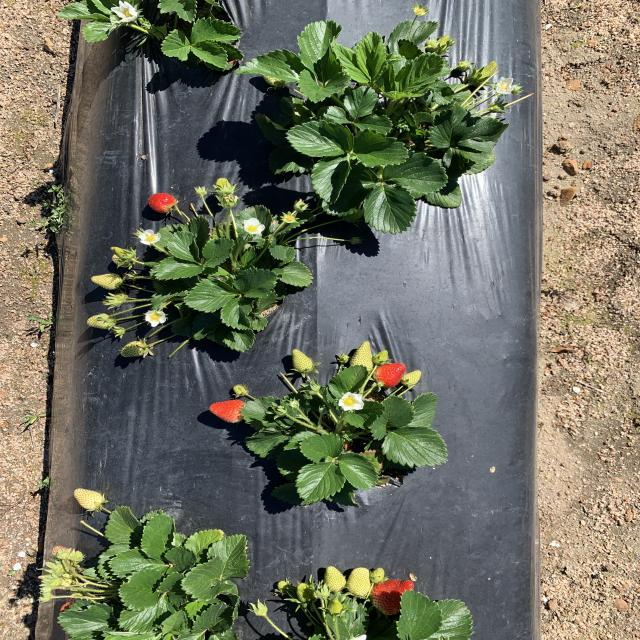unripe: (367, 580, 420, 614), (208, 397, 252, 424), (368, 361, 412, 387), (147, 191, 180, 213)
